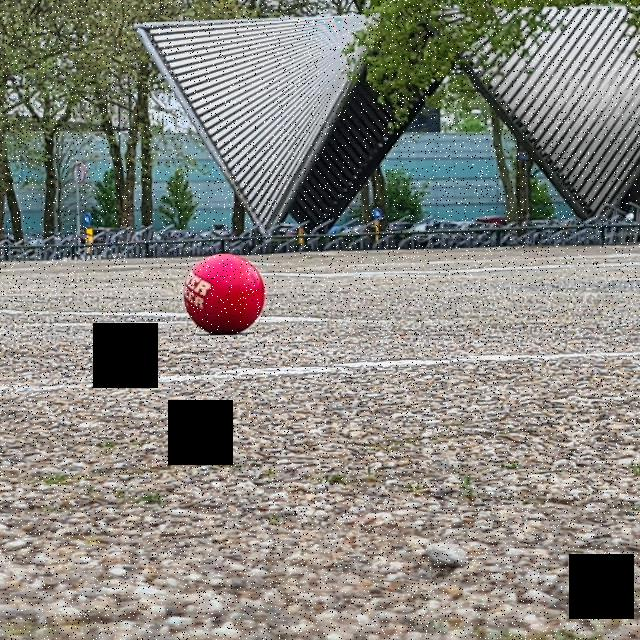ball: (180, 248, 269, 336)
